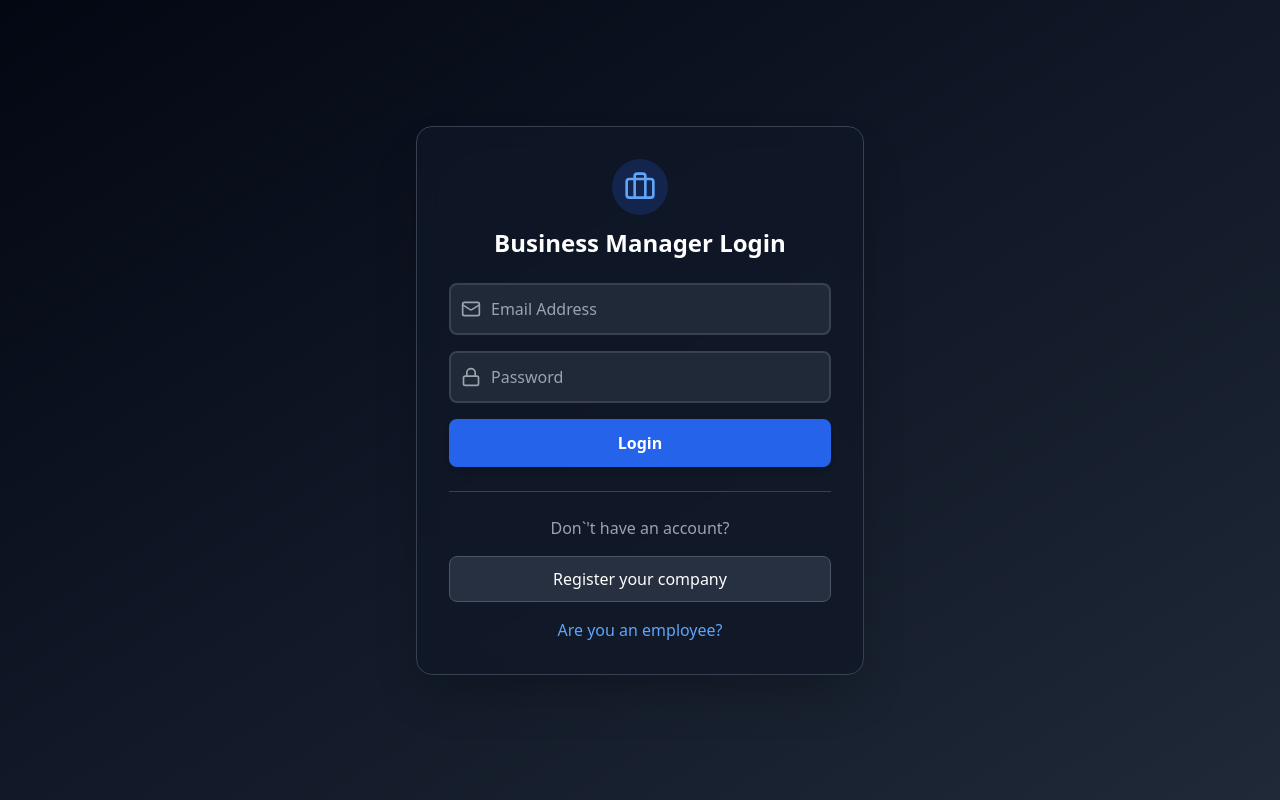
it: BusinessLogin › 9. clears previous error when submitting again
Note: First attempt
Type "test@test.com" into the field with placeholder "Email Address" at (640, 308), box [449,282,831,334]
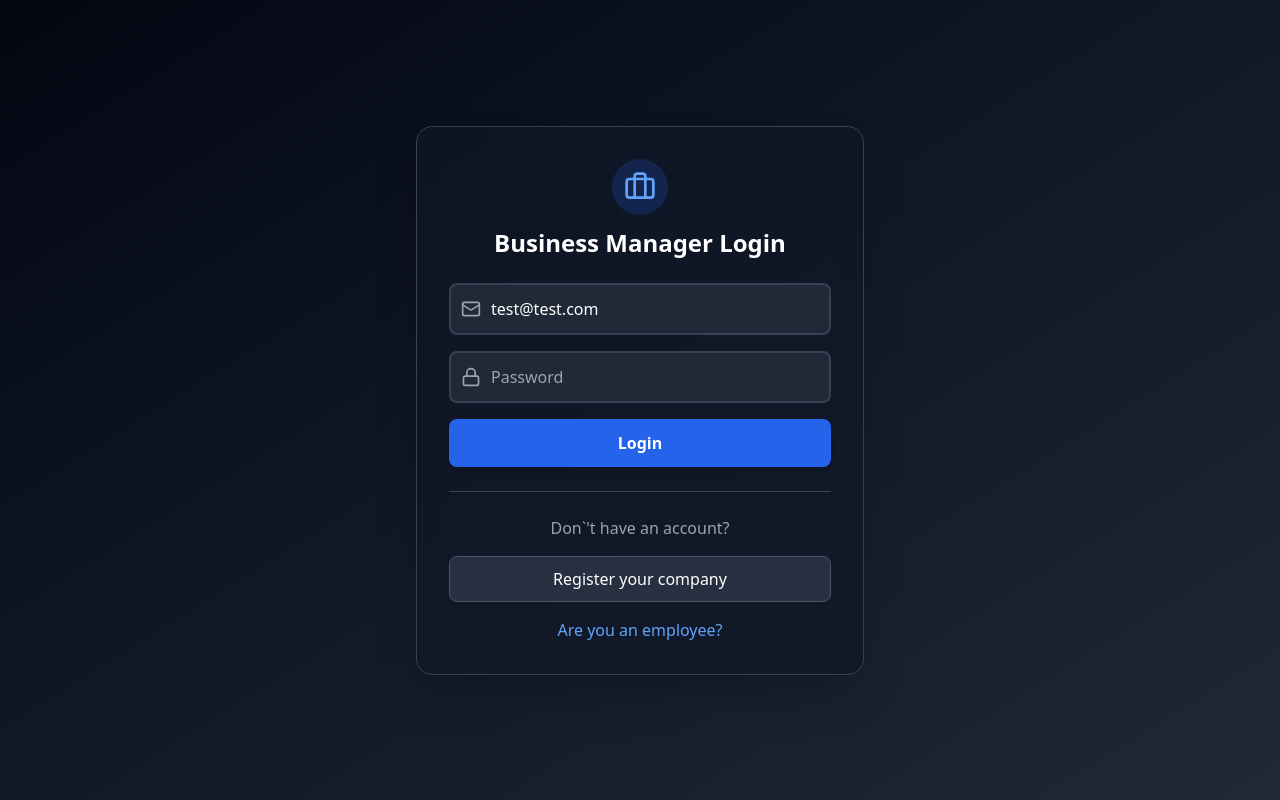
Type "wrong" into the password field with placeholder "Password" at (640, 376), box [449,350,831,402]
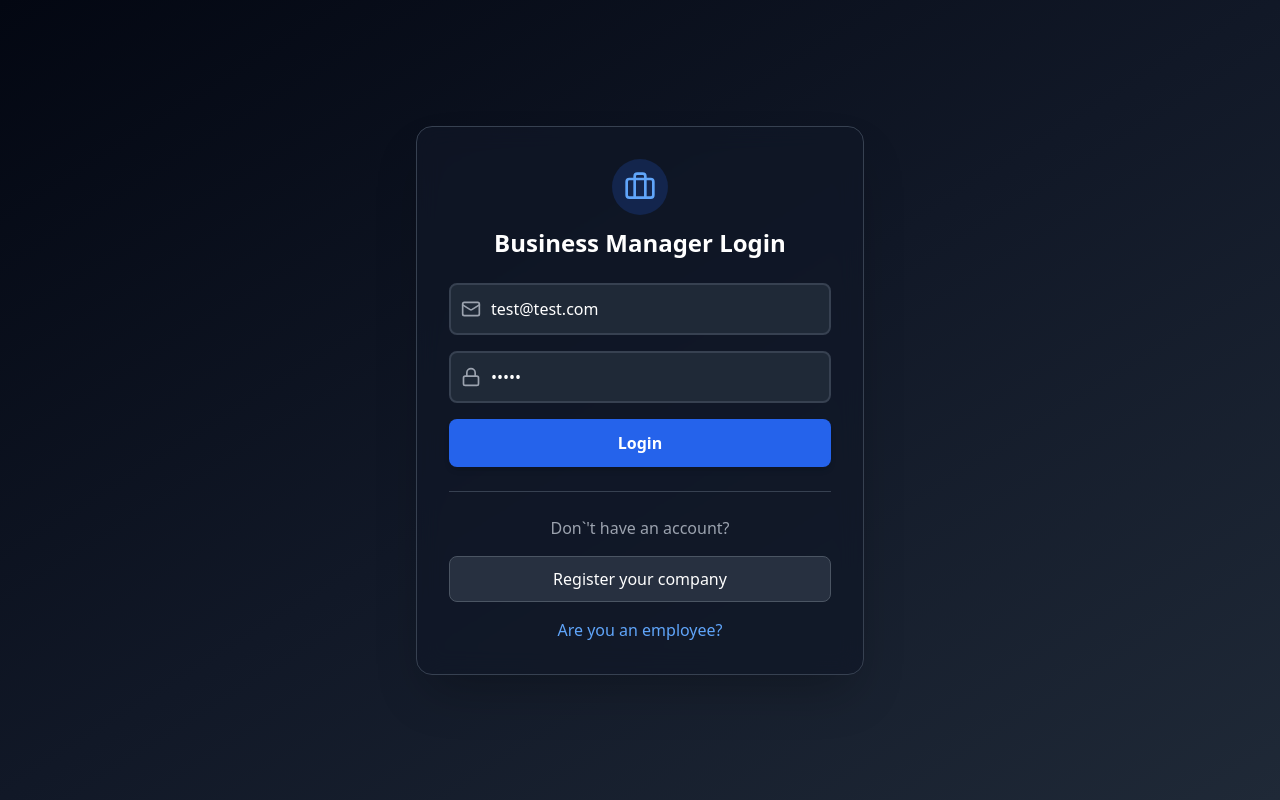
Click the button "Login" at (640, 442), box [449,418,831,466]
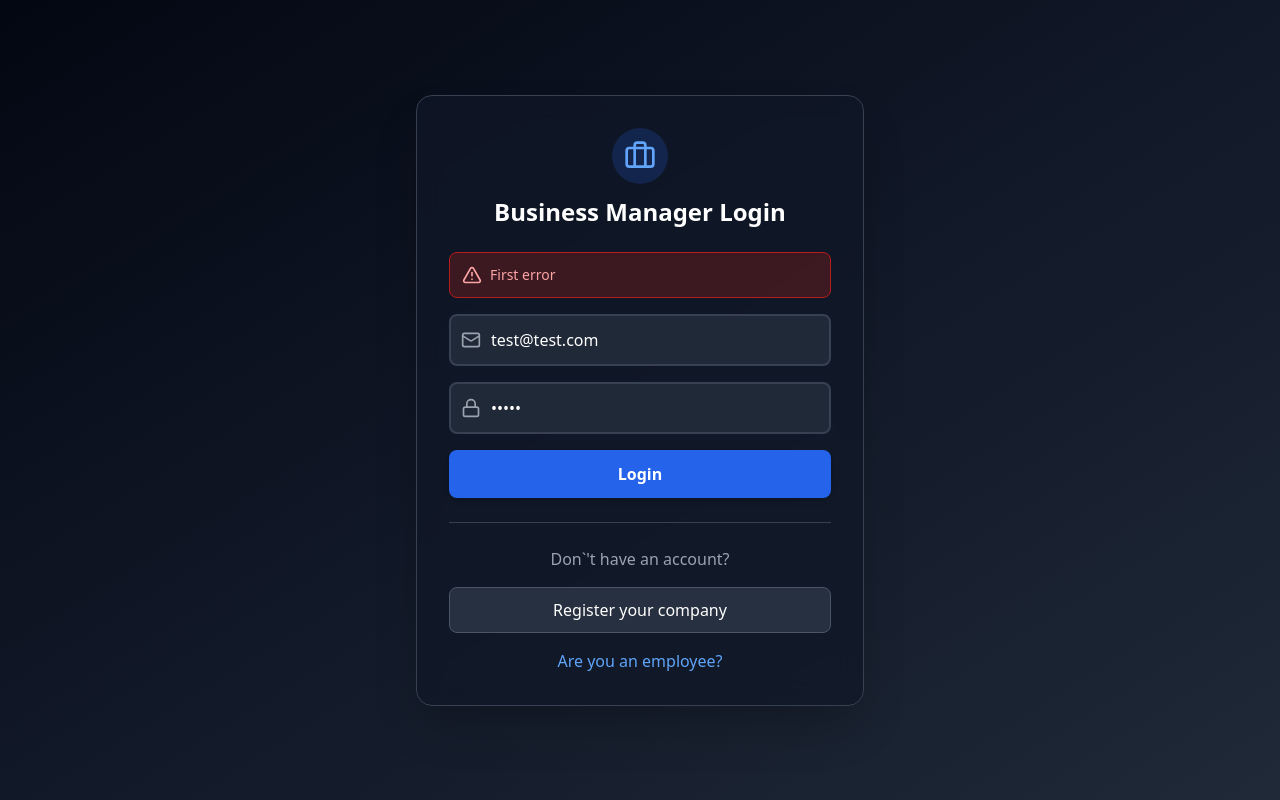
expect the text "First error" is shown: met, box [490,264,556,284]
Note: Second attempt
Type "correct" into the password field with placeholder "Password" at (640, 408), box [449,382,831,434]
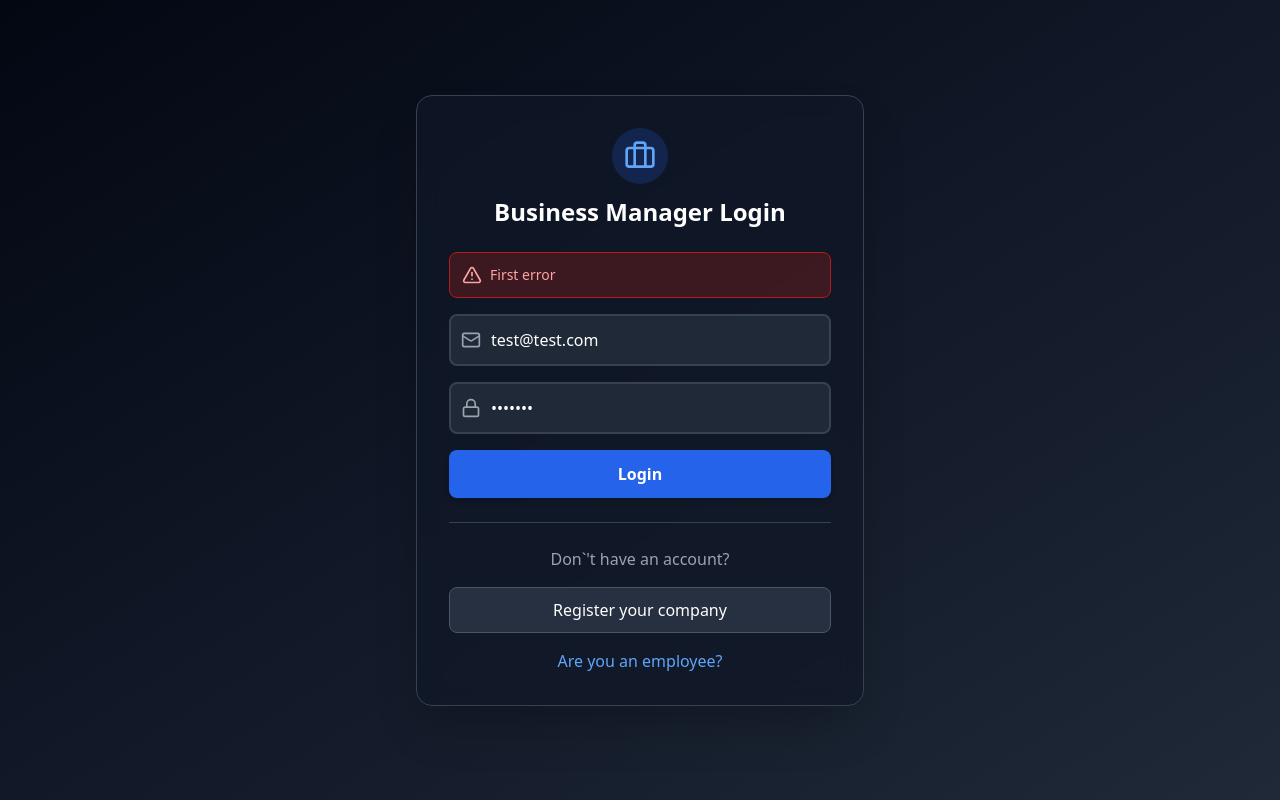
Click the button "Login" at (640, 474), box [449,450,831,498]
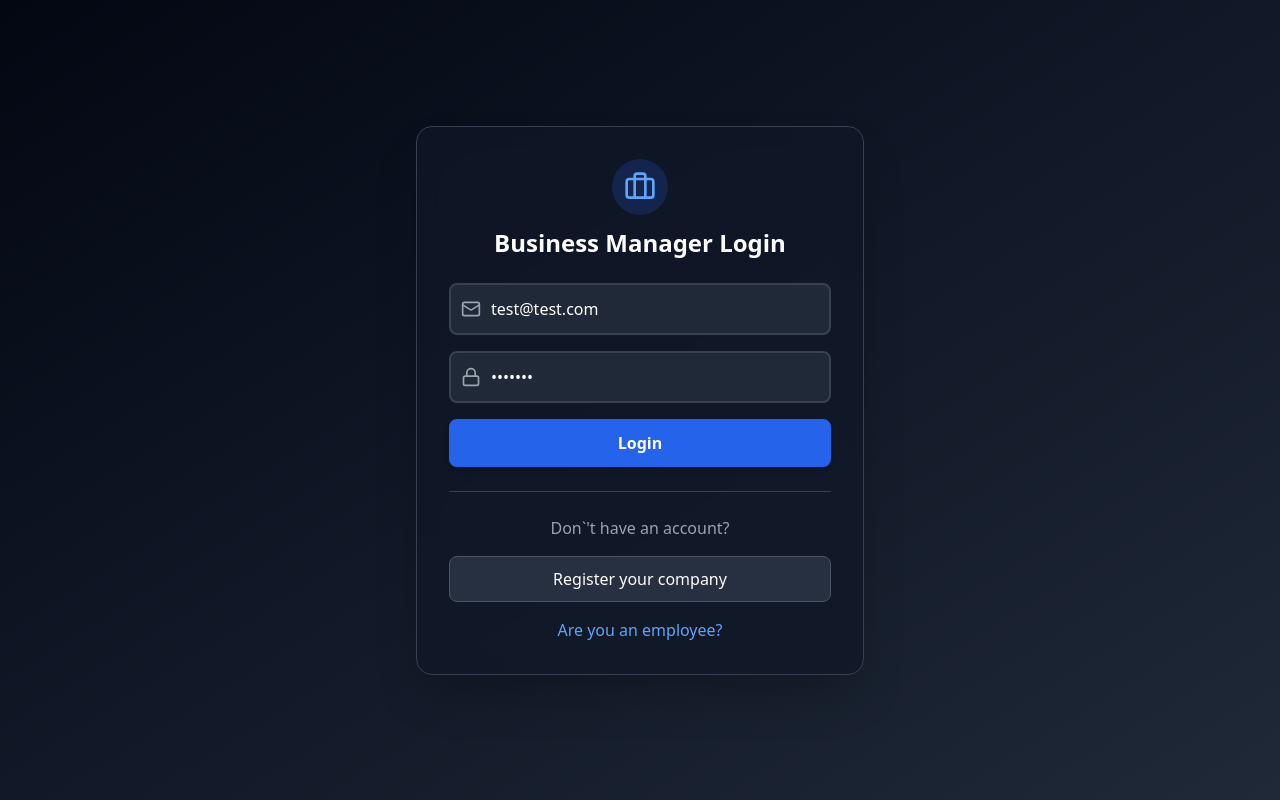
expect the text "First error" is gone: met
